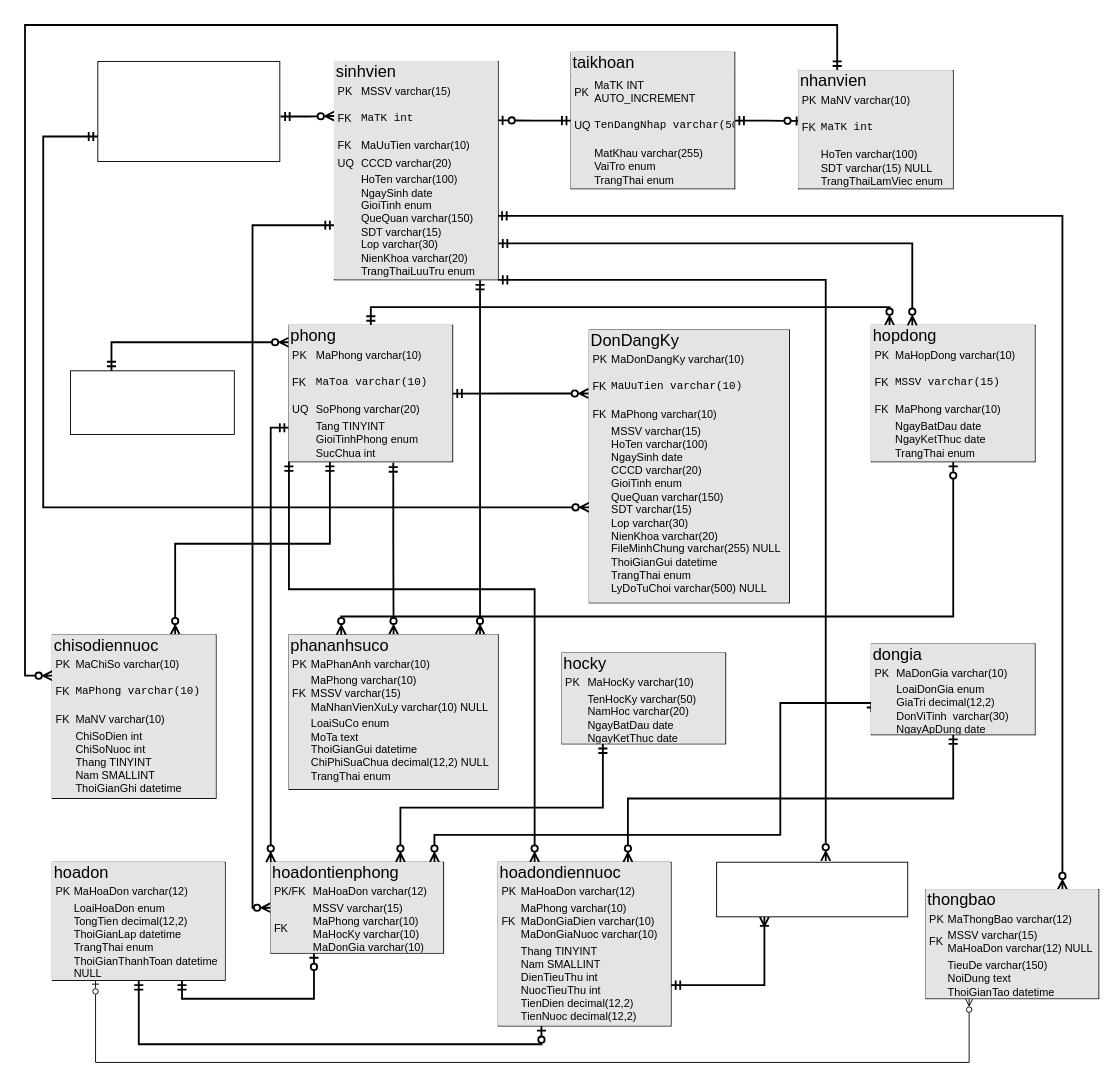
This 1115x1087 diagram has some shape labels left out. Here are the shapes that lost their labels. From the top down, the centre of each, then its label:
the point at 188,111: dienuutien PK MaUuTien varchar(10) UQ TenDienUuTien varchar(100) MucUuTien int
the point at 152,402: toanha PK MaToa varchar(10) UQ TenToa varchar(100)
the point at 812,889: hoadondiennuocsinhvien PK/FK MaHoaDon varchar(12) MSSV varchar(15)
